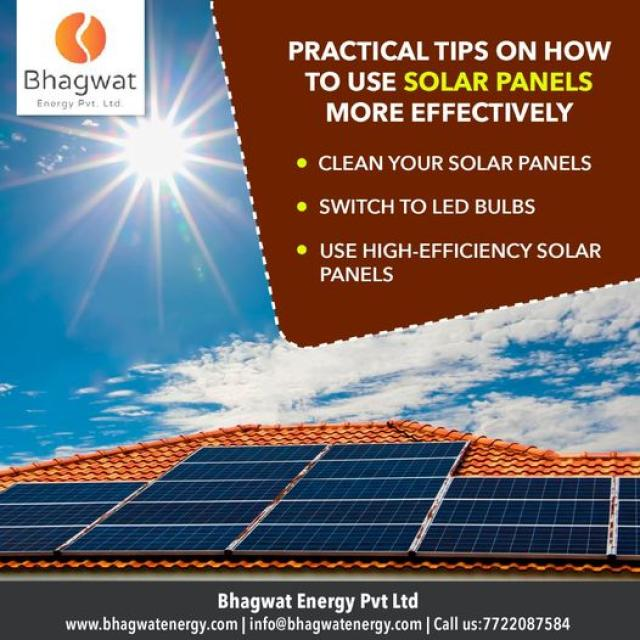clean-solar-panel: (0, 440, 640, 556)
